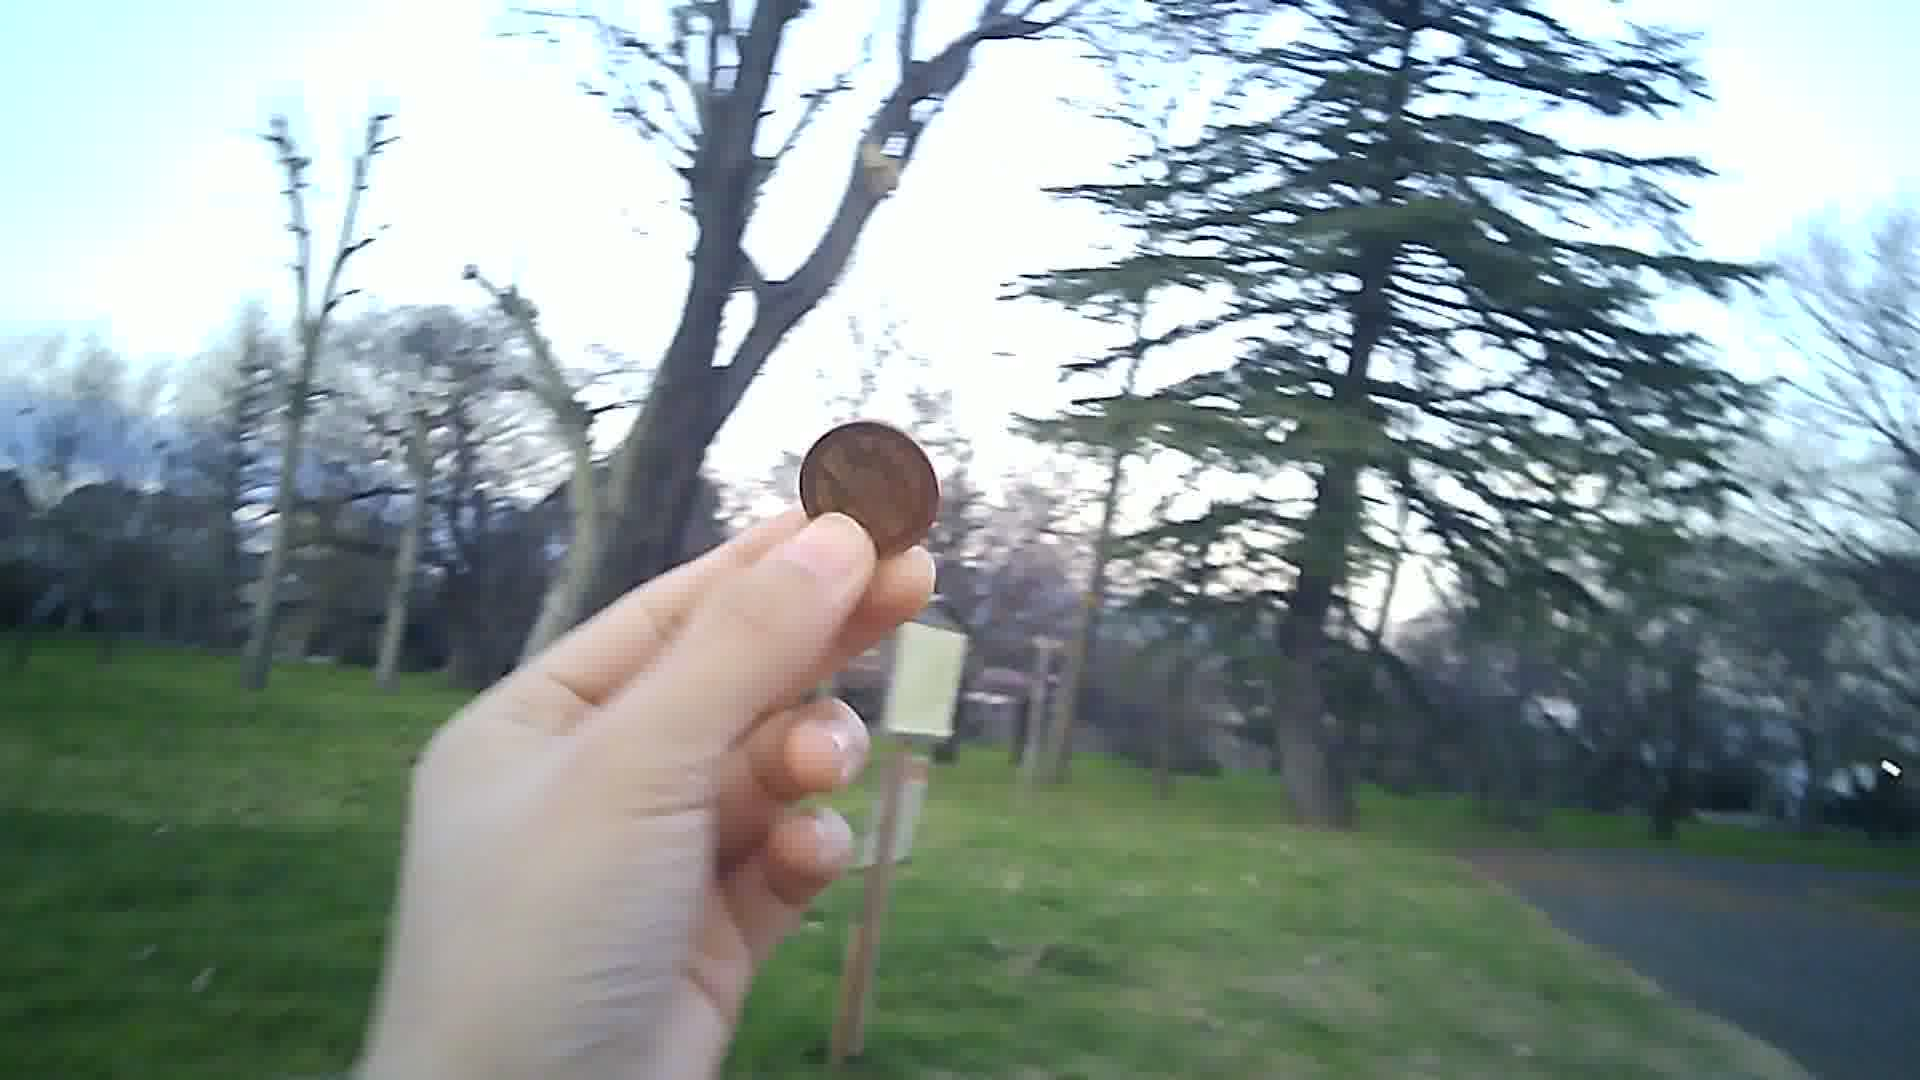10 Yen: (800, 425, 942, 553)
